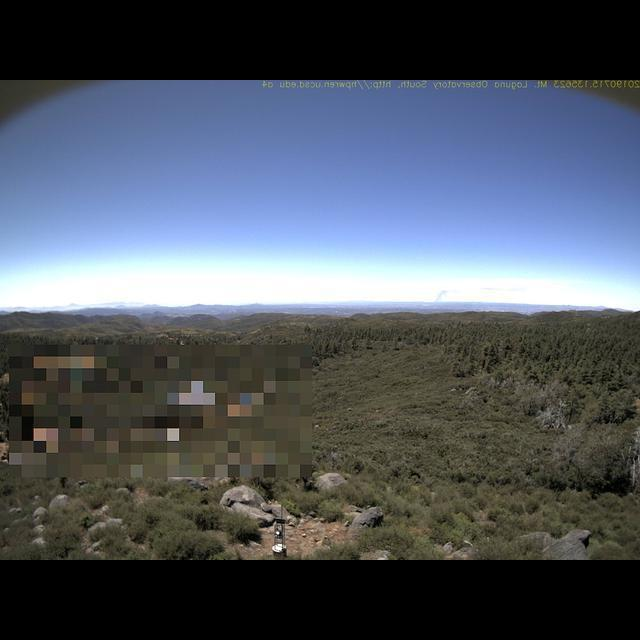Smoke: (427, 285, 455, 311)
